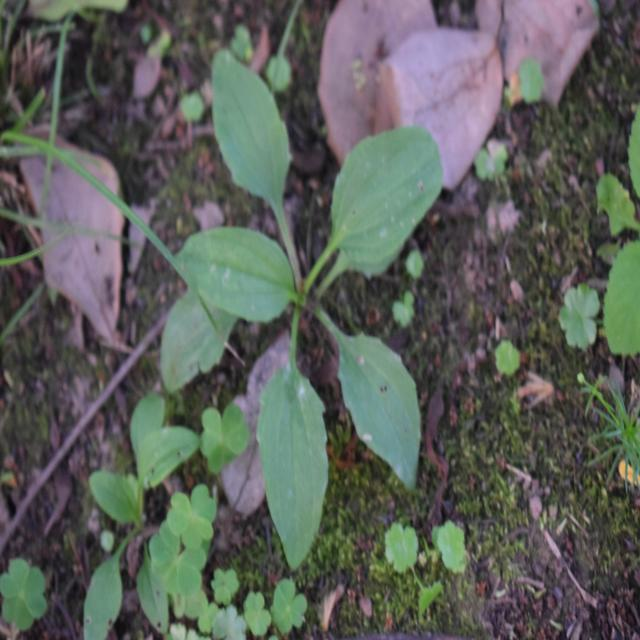plantain: (170, 61, 441, 501)
